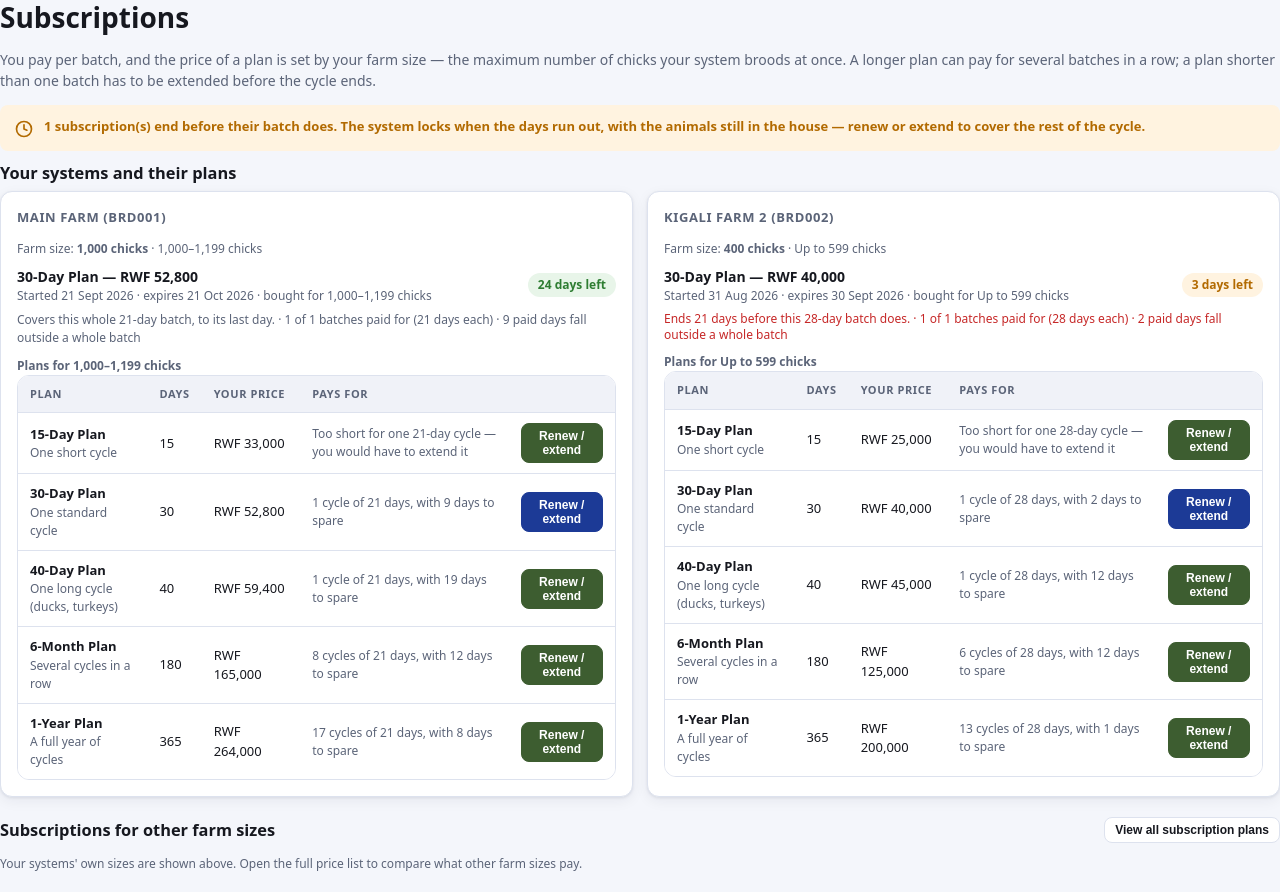
Test: FUNCTIONAL: the farmer sees their own farm size first, other sizes on request › opens the whole published price list on request, with the farmer's own size marked
What coordinates should you click on to do the following:
click the button "View all subscription plans"
I would click on:
 (1192, 830)
Its box is top-left (1104, 818), bottom-right (1279, 844).
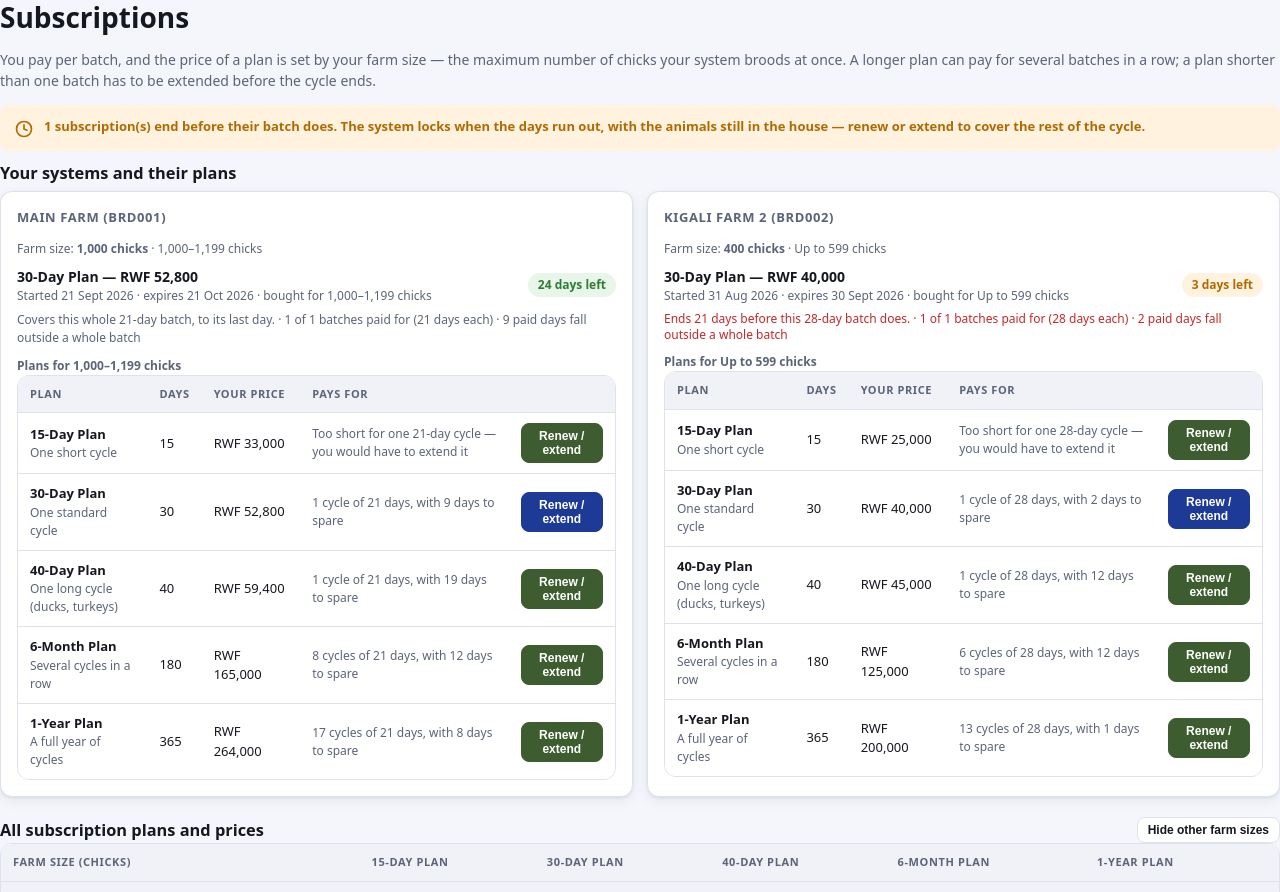
Check: the button "Hide other farm sizes" is shown, box top-left (1137, 818), bottom-right (1279, 844)
